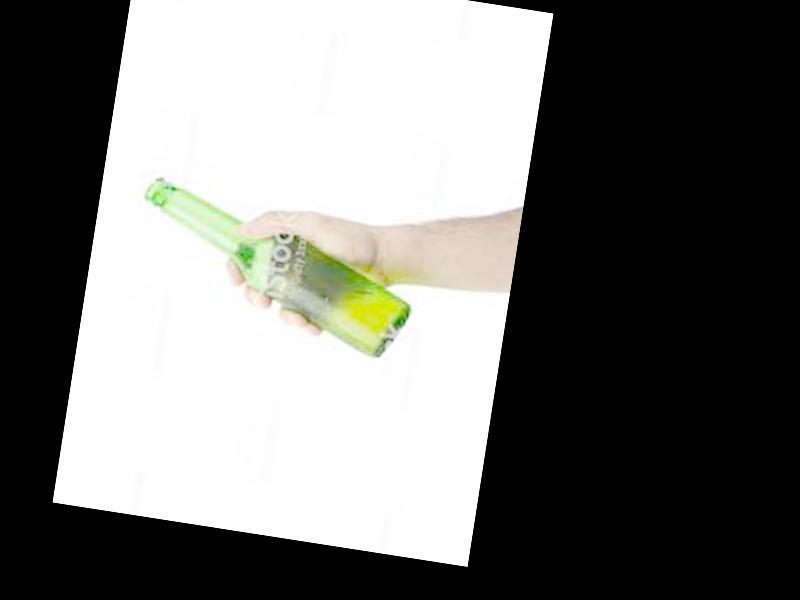Beer: (123, 174, 422, 362)
